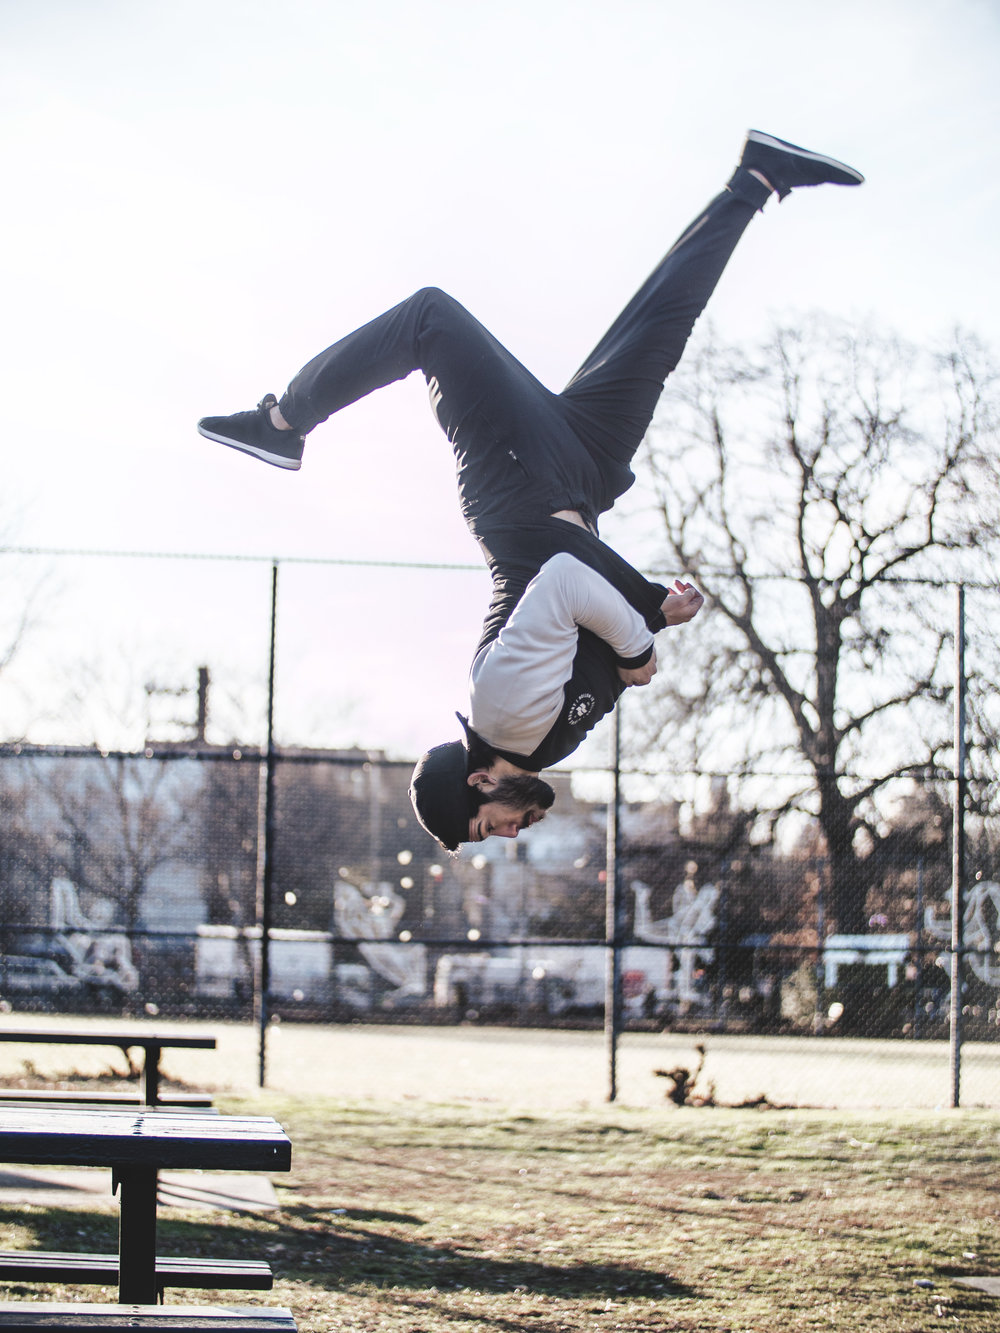Person: (190, 127, 885, 853)
